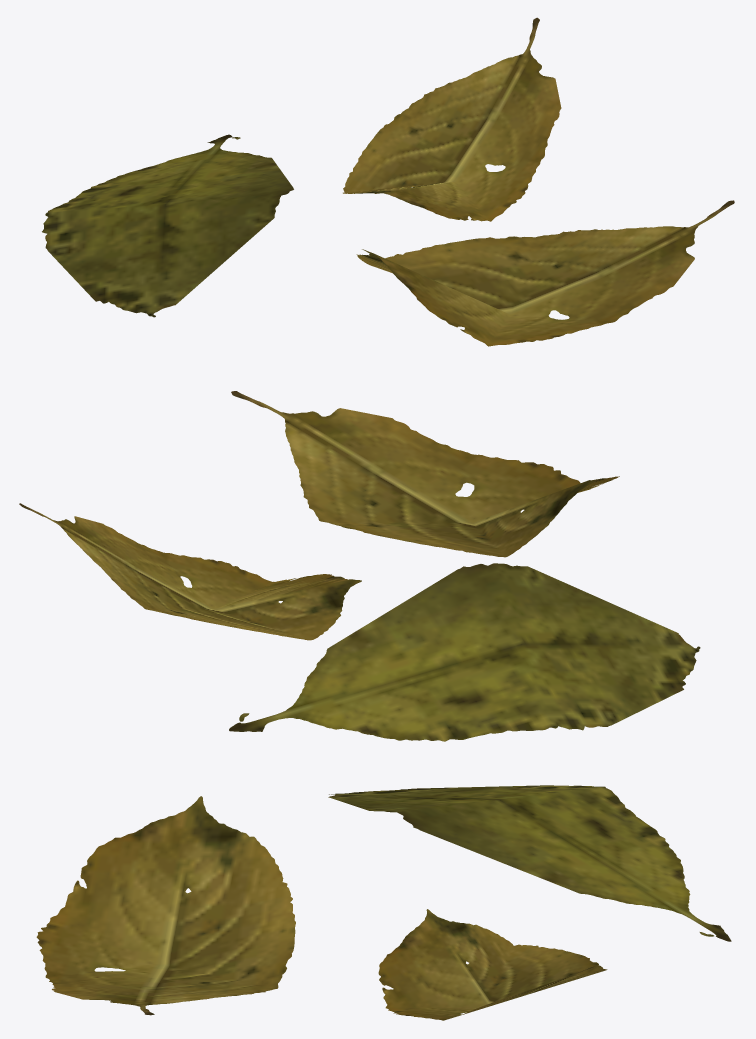
File: Leaf3.fbx
The picture shows the model from 3 angles, top to bottom: view 1: azimuth 30°, elevation 25°; view 2: azimuth 150°, elevation 25°; view 3: azimuth 270°, elevation 25°; orthographic projection. The views are drawn at different scales.
Parts seen in each view (by area): view 1: SM_cmn_mount_Leaf_01b_Dither; view 2: SM_cmn_mount_Leaf_01b_Dither; view 3: SM_cmn_mount_Leaf_01b_Dither.
Boxes of the visible parts, bbox=[...] form: SM_cmn_mount_Leaf_01b_Dither: bbox=[42, 17, 734, 346]; SM_cmn_mount_Leaf_01b_Dither: bbox=[19, 391, 700, 741]; SM_cmn_mount_Leaf_01b_Dither: bbox=[36, 785, 731, 1020].
Bounding box in the file's own units: 21.96 × 4.23 × 22.59.
